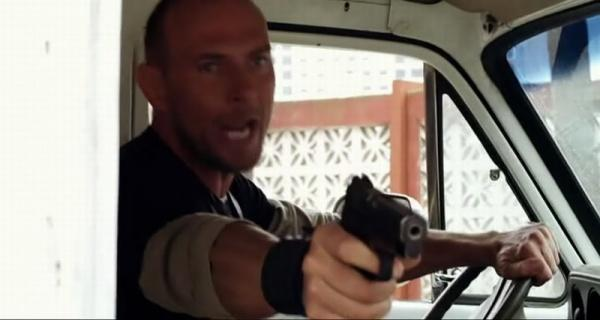Gun: (340, 176, 428, 281)
